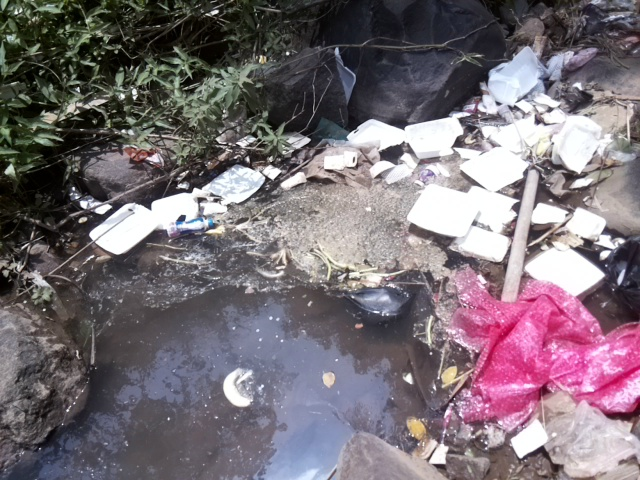Sampah_Botol_Plastik: (168, 216, 214, 238)
Sampah_Plastik: (443, 264, 640, 432), (603, 239, 640, 316), (340, 285, 416, 321)
Sampah_Styrofoam: (344, 117, 465, 159), (407, 179, 480, 242), (486, 40, 549, 112), (525, 246, 602, 304), (86, 200, 164, 255), (456, 145, 531, 185), (199, 163, 267, 207), (478, 115, 554, 154), (460, 182, 519, 232), (557, 113, 605, 172), (445, 222, 514, 263), (153, 187, 196, 230), (533, 202, 573, 228), (573, 208, 603, 241)
